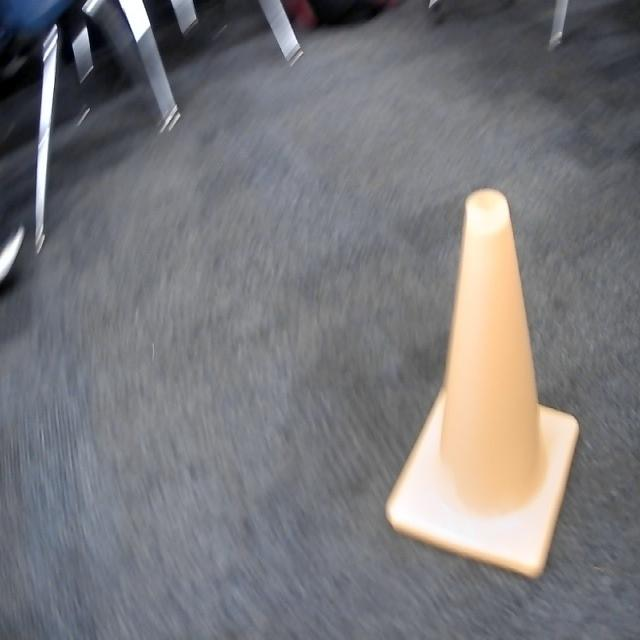cone: (386, 184, 578, 580)
